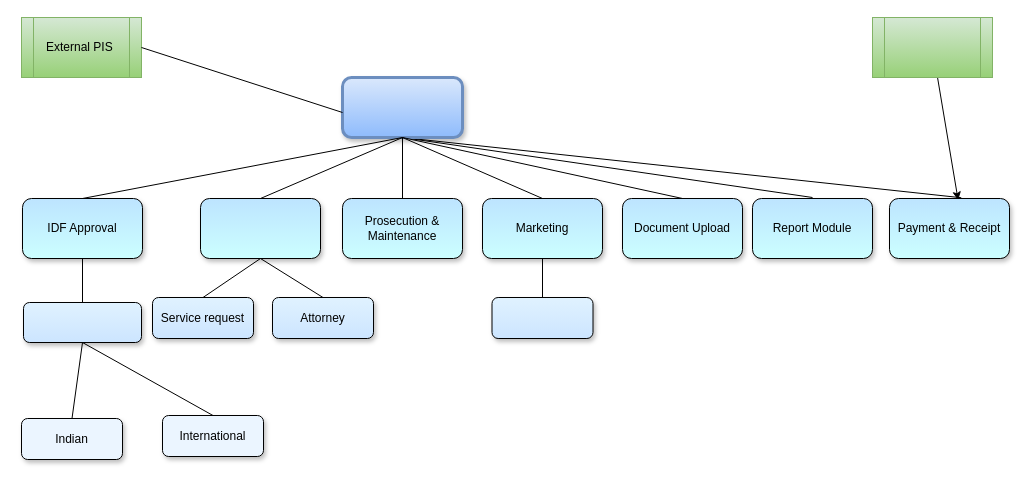
Some shapes in this 1033 by 484 pixel diagram are drawn without their labels. Here are the shapes that lost their labels. From the top down, the centre of each, then its label:
point (932, 47): Accounting System
point (403, 109): IPIMS
point (261, 230): Service provider
point (83, 324): File Creation
point (543, 319): Advertising
